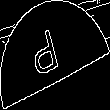P_S: (37, 25, 73, 85)
